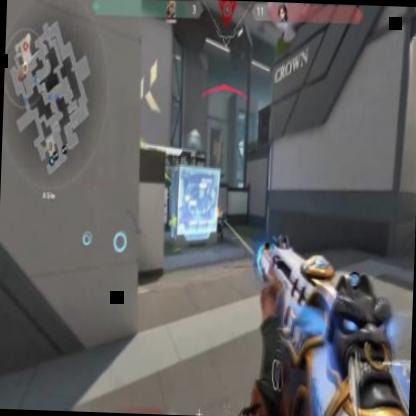enemy: (213, 207, 225, 243)
enemy_head: (217, 207, 221, 214)
